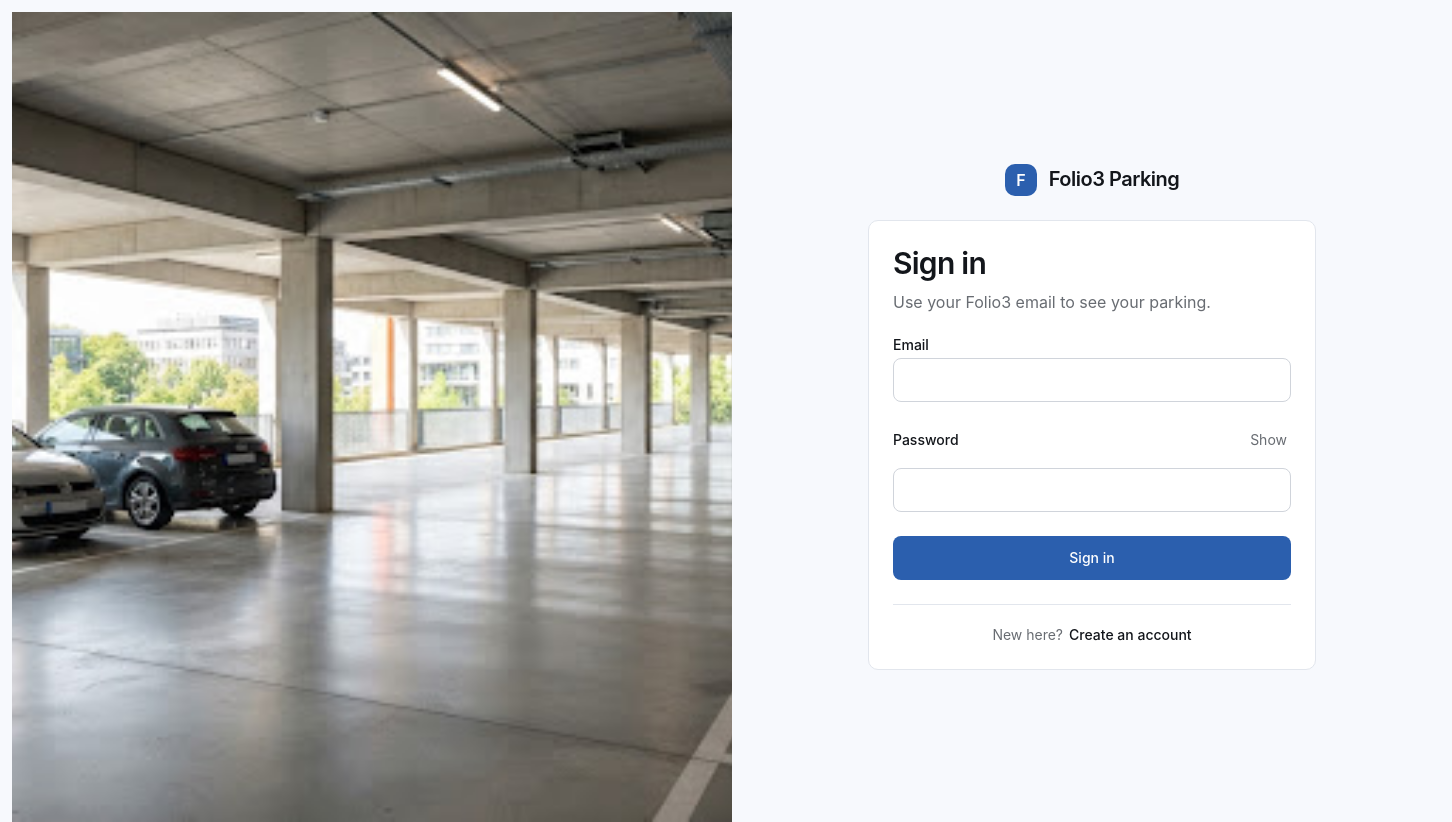
account access › AC_2_2_ShowsAuthenticationAndAccessRefusalsWithoutEmployeeData
In the field labelled "Email": [1092, 380] box [893, 358, 1291, 402], type "unknown@folio3.com"
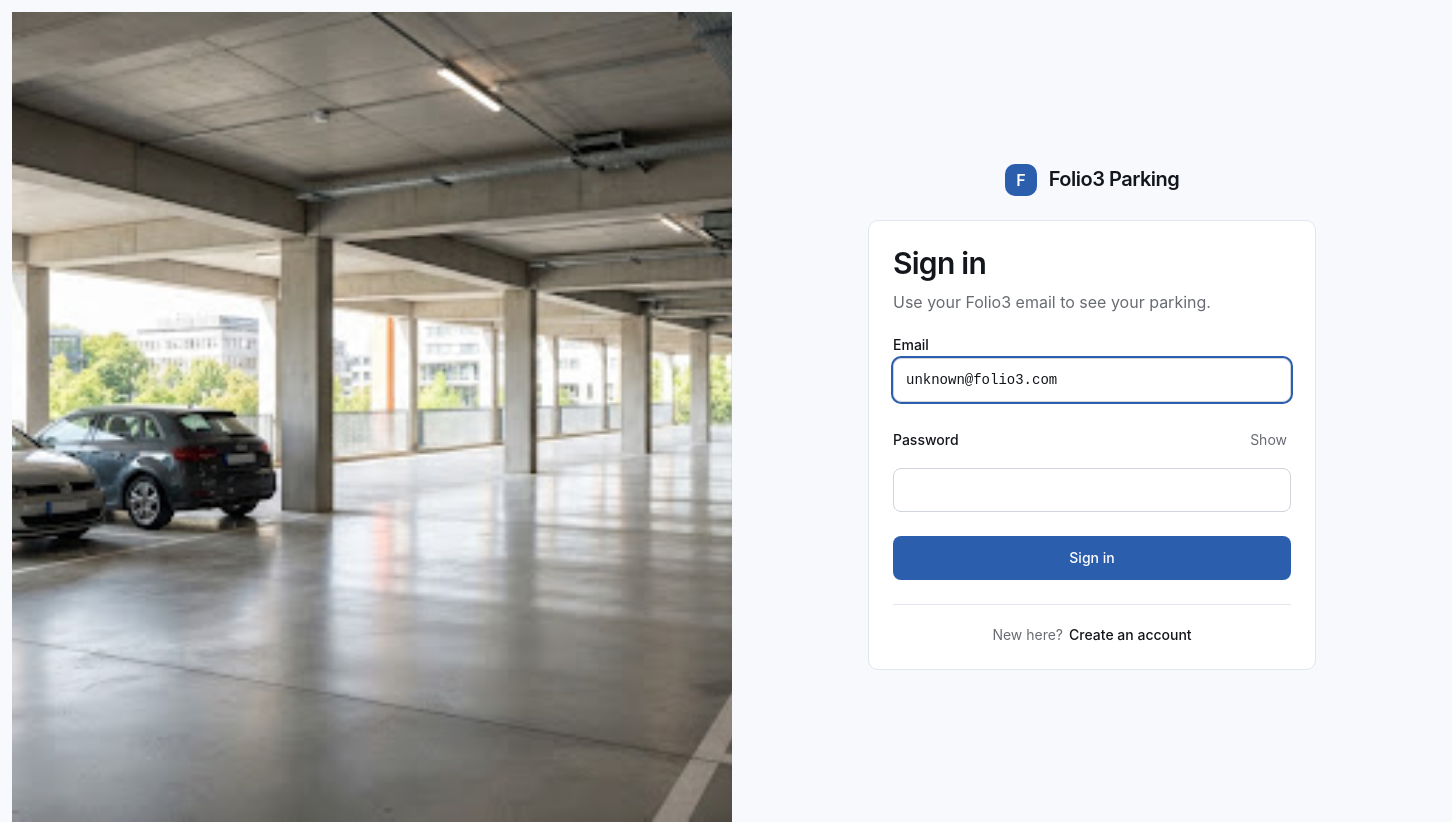
In the password field labelled "Password": [1092, 490] box [893, 468, 1291, 512], type "wrong-password"
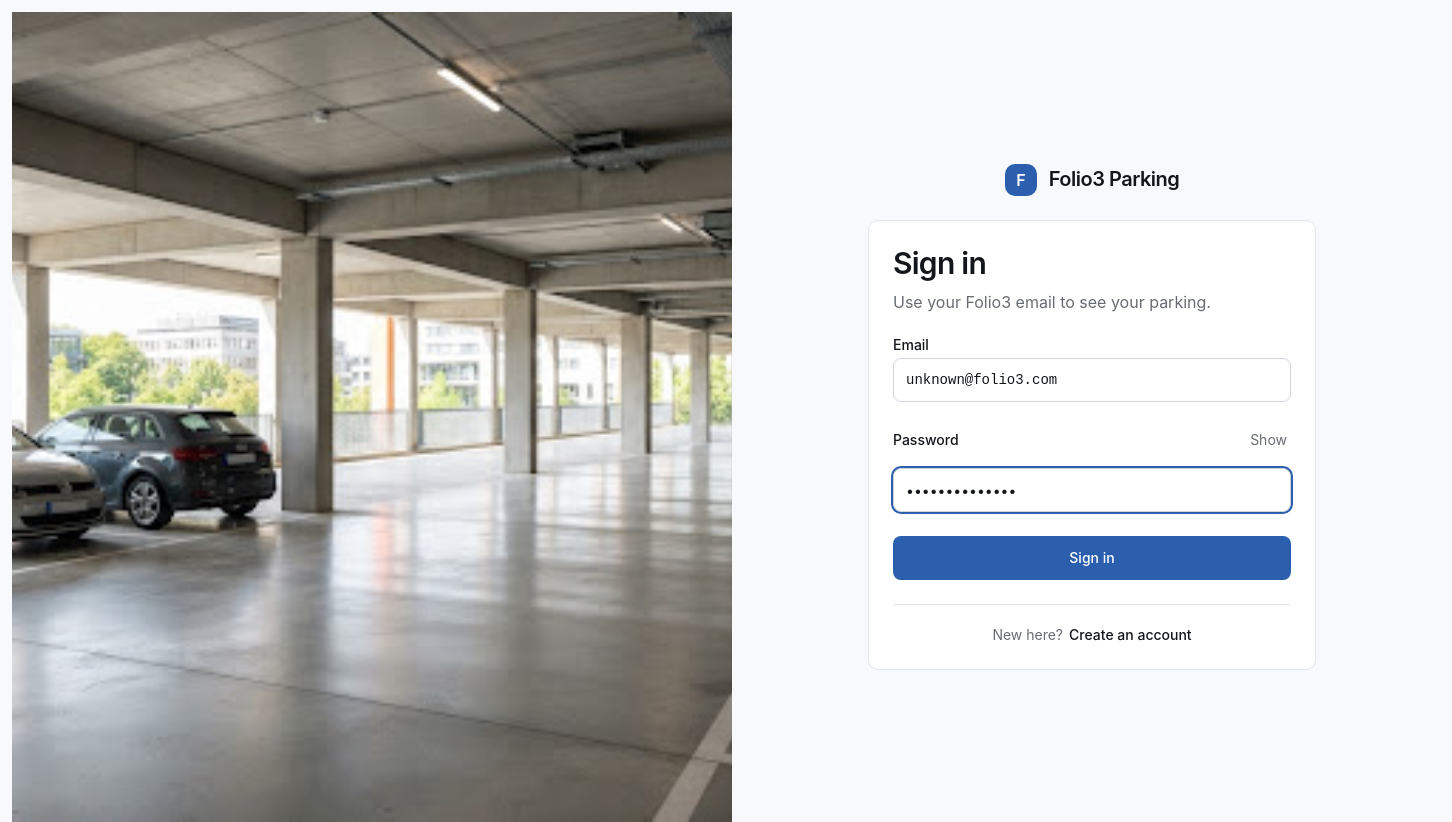
Click the button "Sign in": [1092, 558] box [893, 536, 1291, 580]
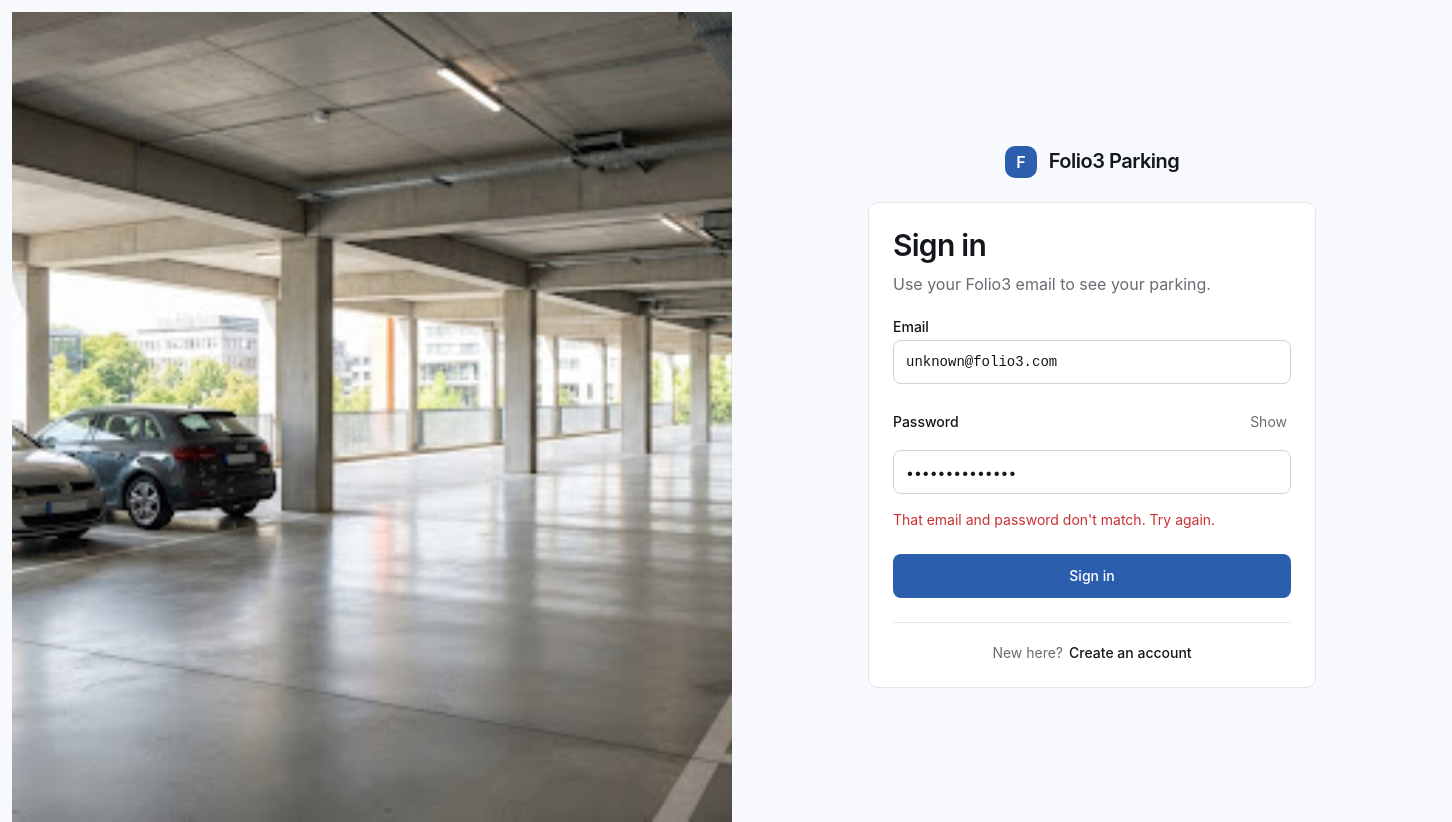
Now the text "That email and password don't match. Try again." is shown, box [893, 511, 1215, 528]
Click the button "Sign in": [1092, 576] box [893, 554, 1291, 598]
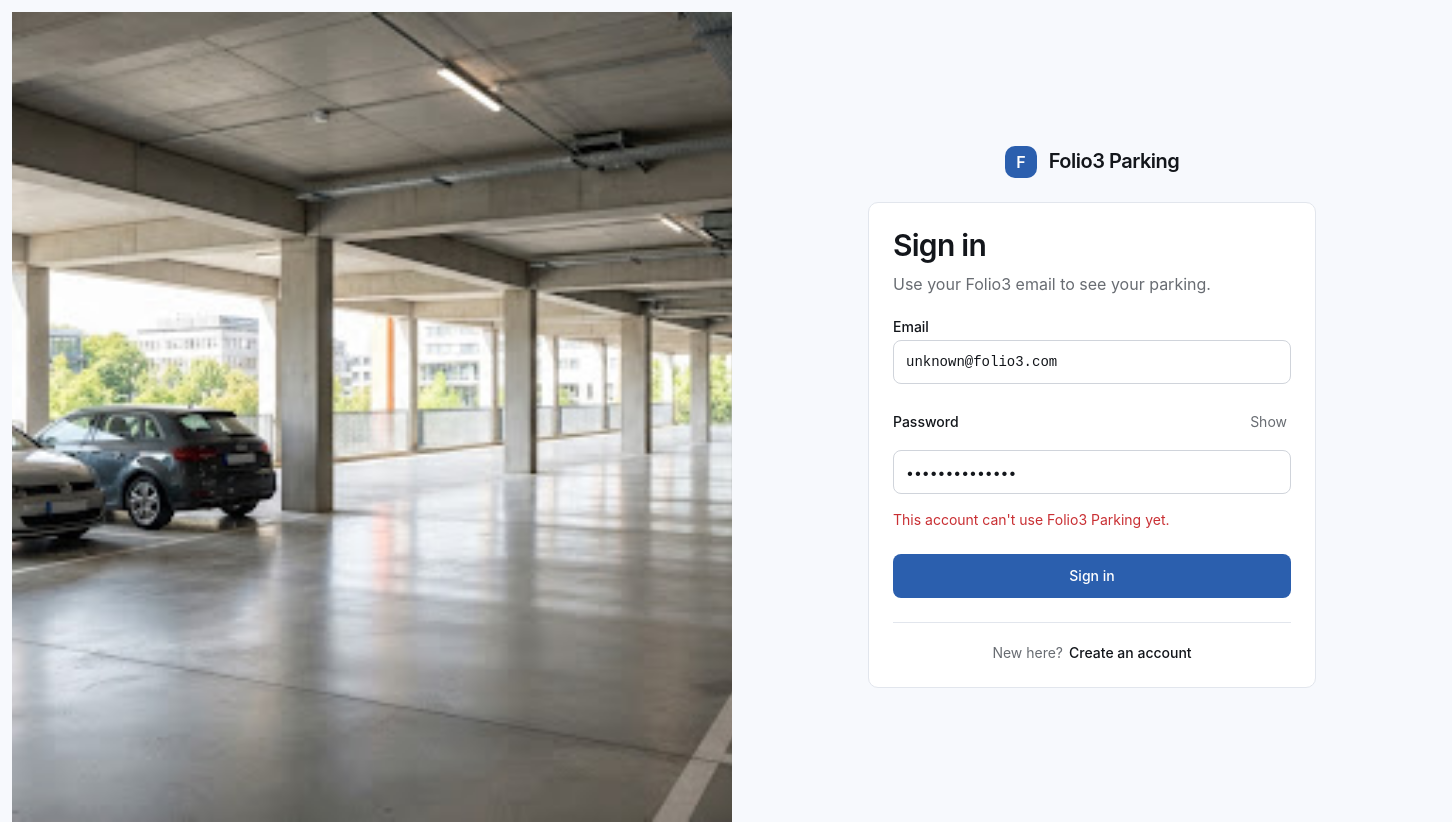
Now the text "This account can't use Folio3 Parking yet." is shown, box [893, 511, 1170, 528]
